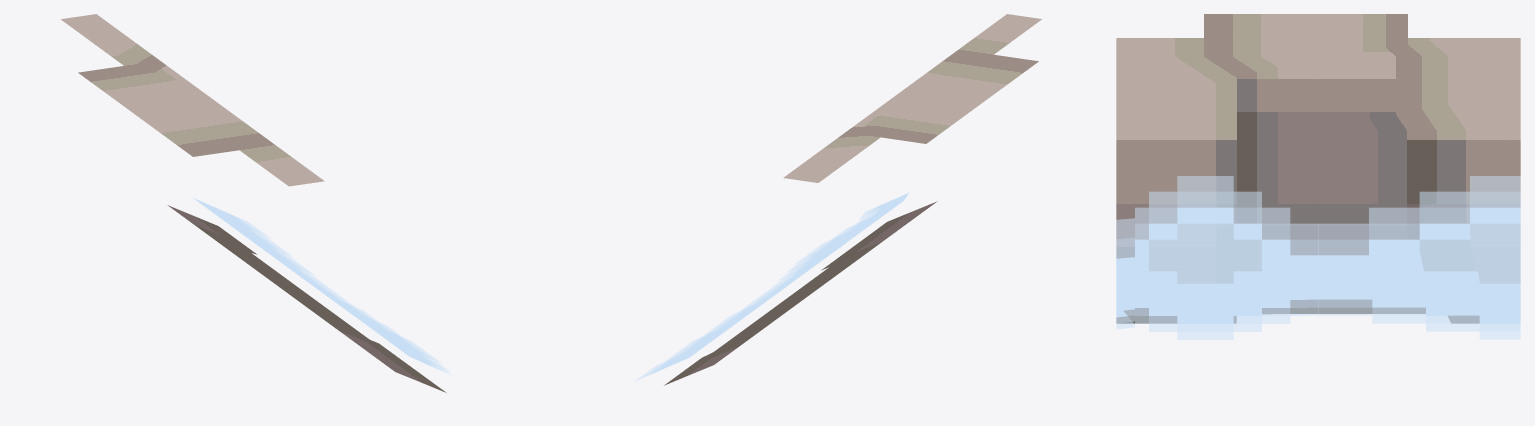
3 renders of one model, left to right at view 1: azimuth 30°, elevation 25°; view 2: azimuth 150°, elevation 25°; view 3: azimuth 270°, elevation 25°, orthographic. The views are drawn at different scales.
Bounding box in the file's own units: 0.7705 × 0.7266 × 1.
Materials: 2 (2 with a texture image).
